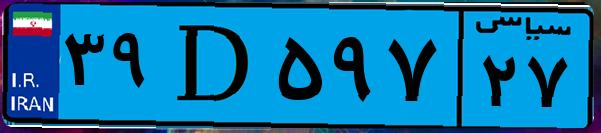2: (475, 38, 525, 113)
3: (57, 26, 110, 100)
5: (270, 28, 330, 110)
7: (385, 28, 445, 110), (525, 38, 570, 115)
9: (330, 28, 385, 110), (110, 28, 158, 98)
D: (158, 12, 270, 120)
